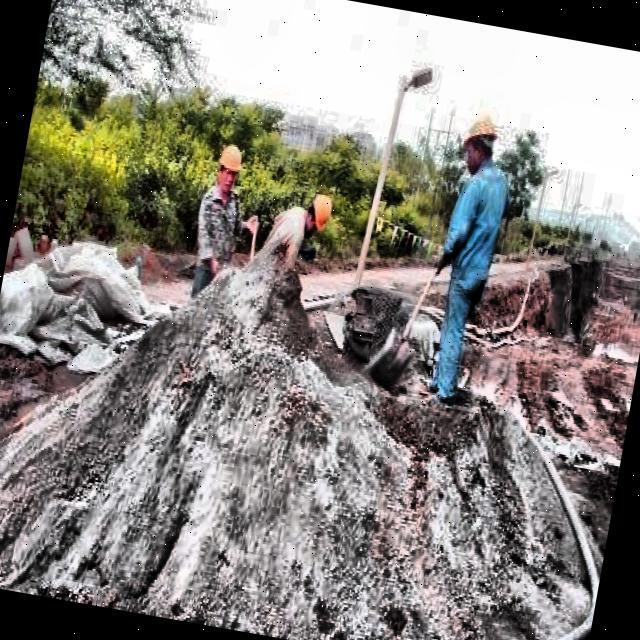helmet: (456, 100, 504, 178), (208, 140, 247, 202), (298, 186, 336, 244)
